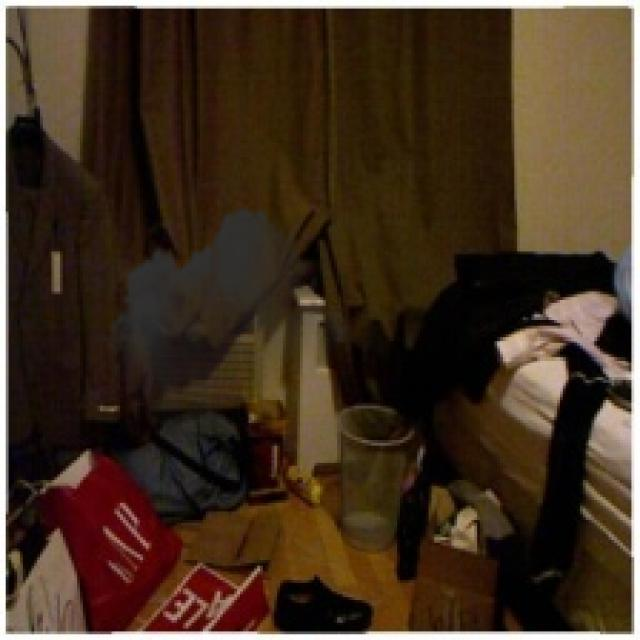smoke: (103, 197, 354, 449)
